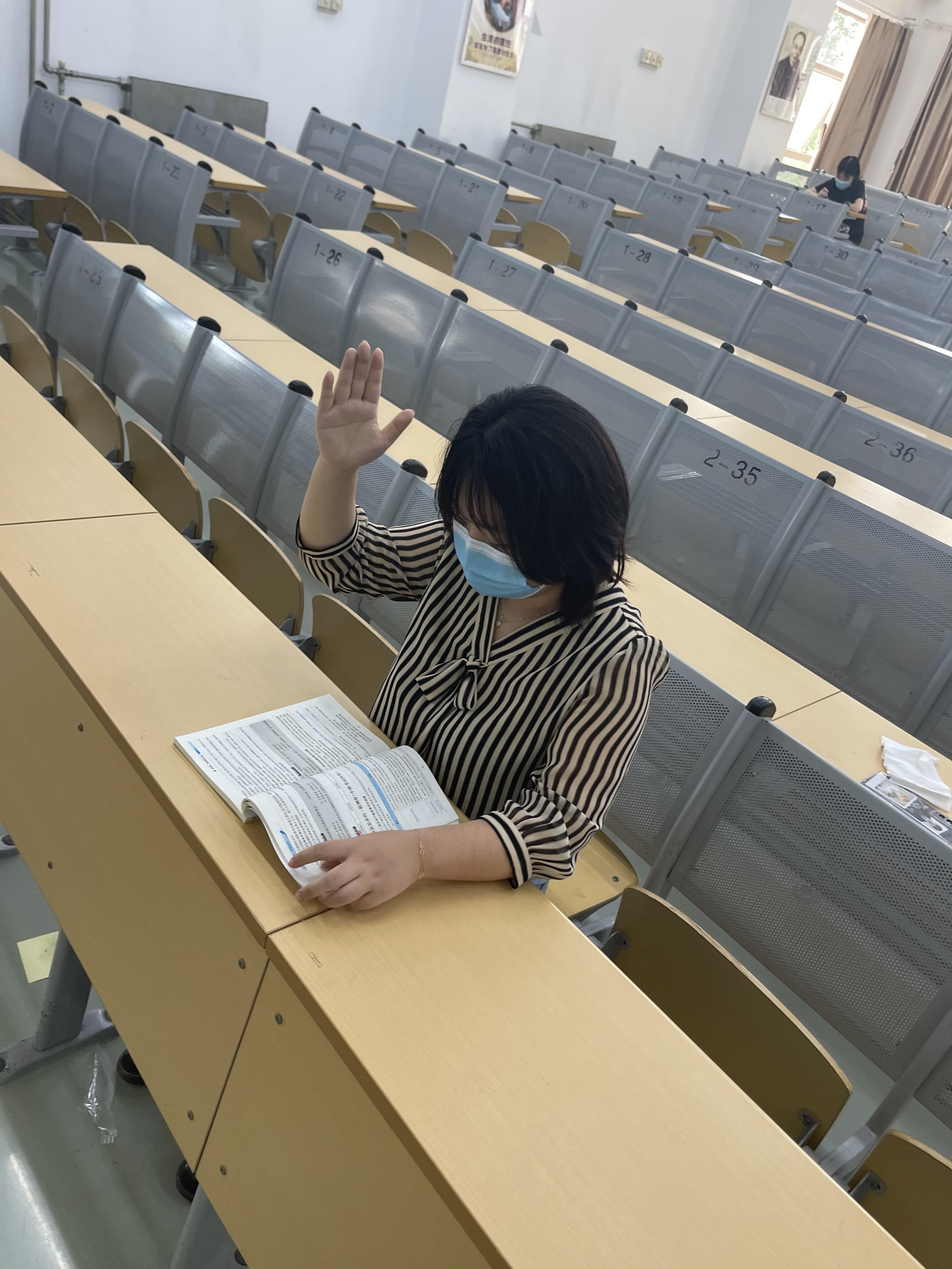study: (197, 337, 671, 908)
